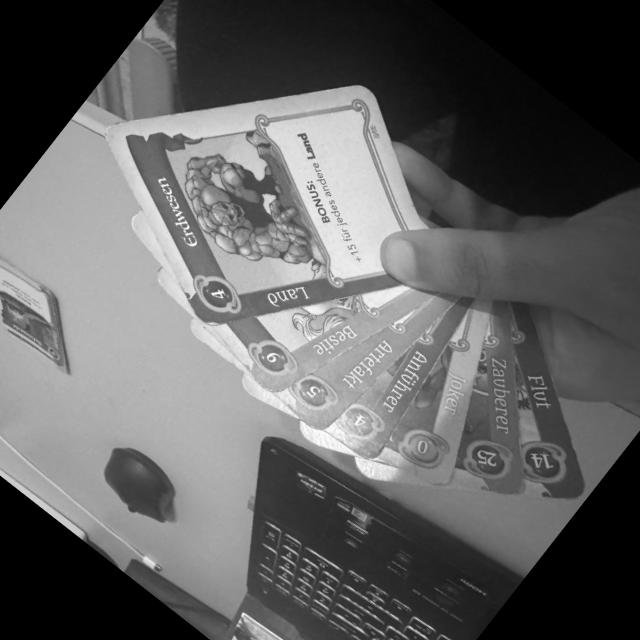Doppelganger: (379, 300, 492, 493)
Earth Elemental: (96, 82, 423, 327)
Gem Of Order: (274, 291, 464, 434)
Island: (509, 300, 581, 501)
Unicorn: (212, 286, 439, 397)
Warlock Lord: (453, 300, 522, 498)
Warlord: (322, 297, 472, 464)
